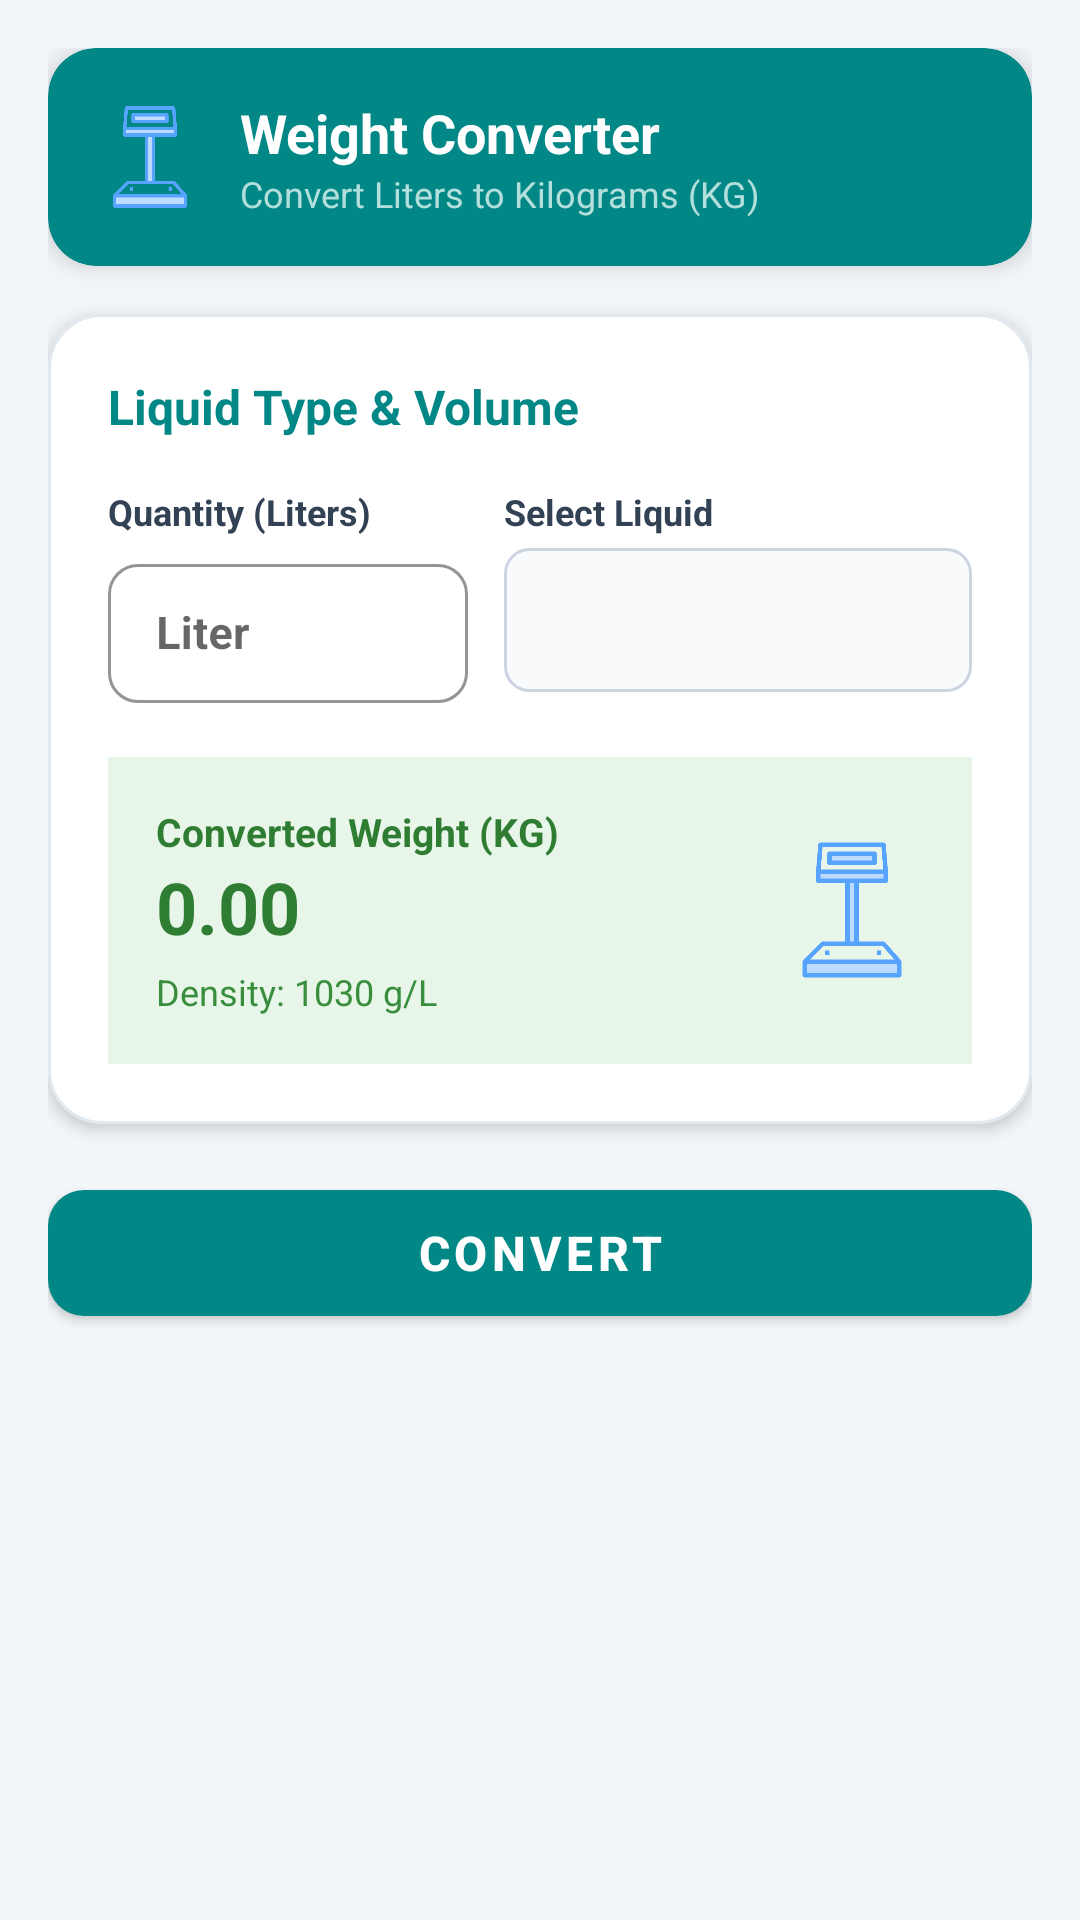

Point at icon controls on the screen. Image size 1080px x 1920px, points as (x=x, y=y).
weighing scale: (x=150, y=157), (x=852, y=910)
